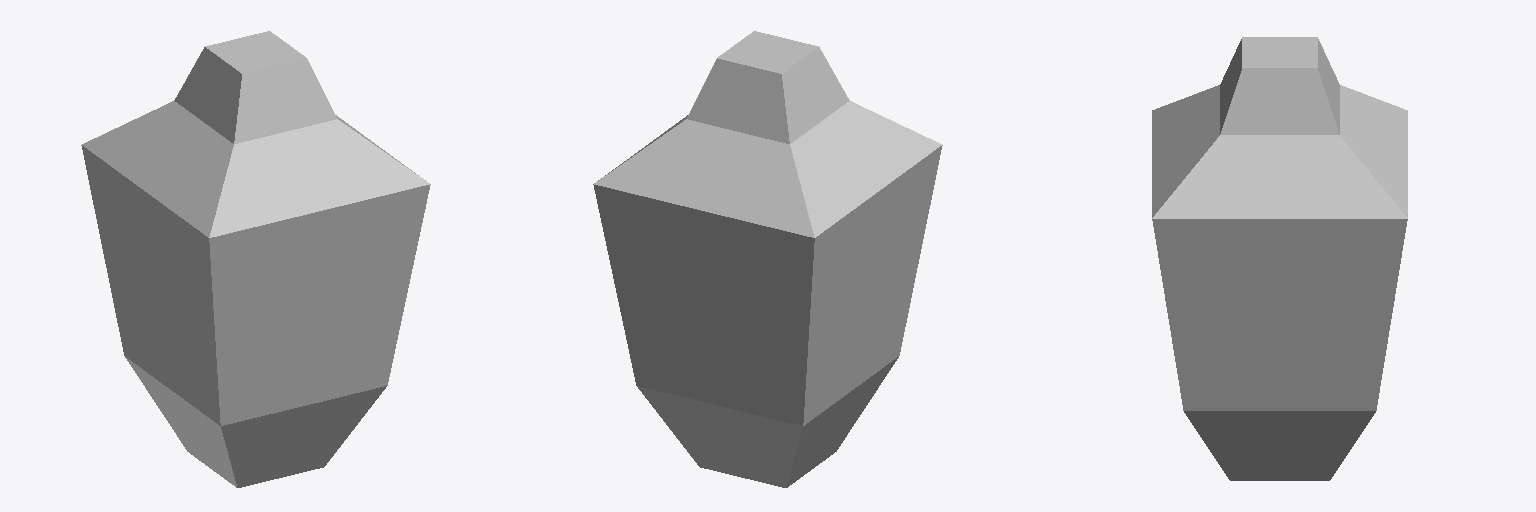
Rendered from Trash5.obj.
3 views of the same model, side by side, from view 1: azimuth 30°, elevation 25°; view 2: azimuth 150°, elevation 25°; view 3: azimuth 270°, elevation 25° (orthographic).
Visible parts, largest first — view 1: Trash5; view 2: Trash5; view 3: Trash5.
Boxes of the visible parts, x1,y1,x2,y2 form: Trash5: [81, 31, 430, 487]; Trash5: [593, 31, 942, 487]; Trash5: [1152, 37, 1407, 480].
Bounding box in the file's own units: 2.14 × 3.75 × 2.14.